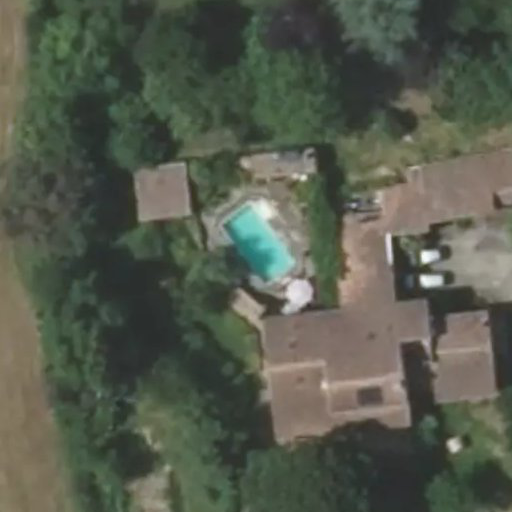pool: (217, 226, 294, 257)
